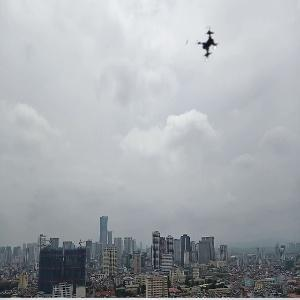drone: (184, 26, 224, 66)
